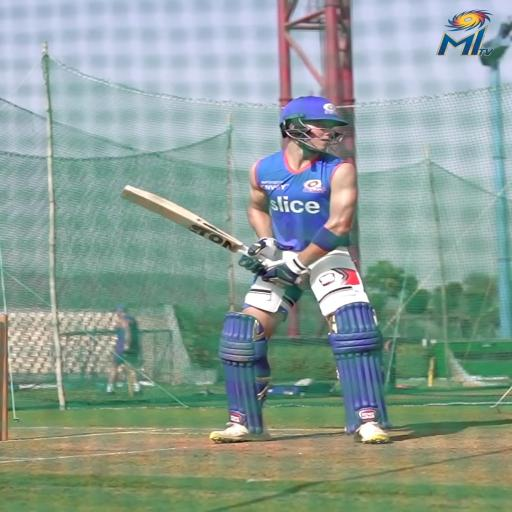Cricket bat: (121, 185, 247, 253)
